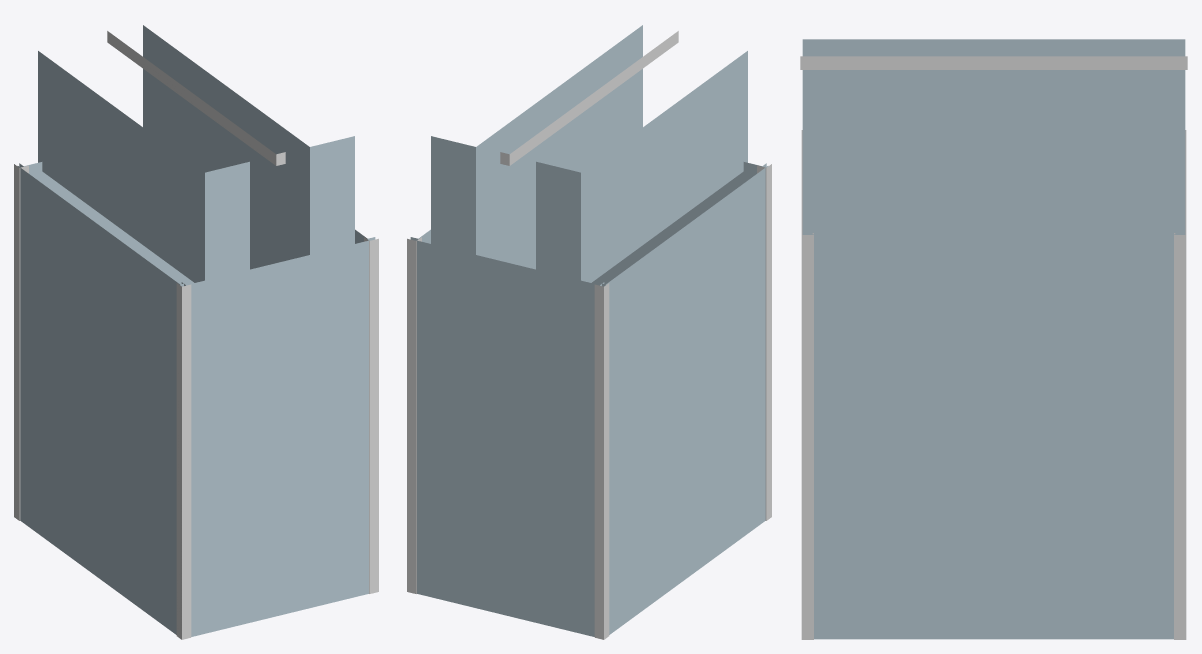
Rendered from greenhouse.glb.
3 renders of one model, left to right at view 1: azimuth 30°, elevation 25°; view 2: azimuth 150°, elevation 25°; view 3: azimuth 270°, elevation 25°, orthographic. The views are drawn at different scales.
Size of the model in its own units: 1.05 by 2.36 by 1.56.
